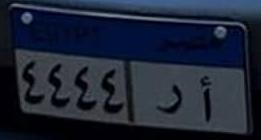4: (98, 65, 125, 117), (19, 56, 44, 110), (72, 63, 98, 114), (46, 60, 71, 112)
alif: (194, 71, 217, 126)
raa: (152, 78, 184, 121)
